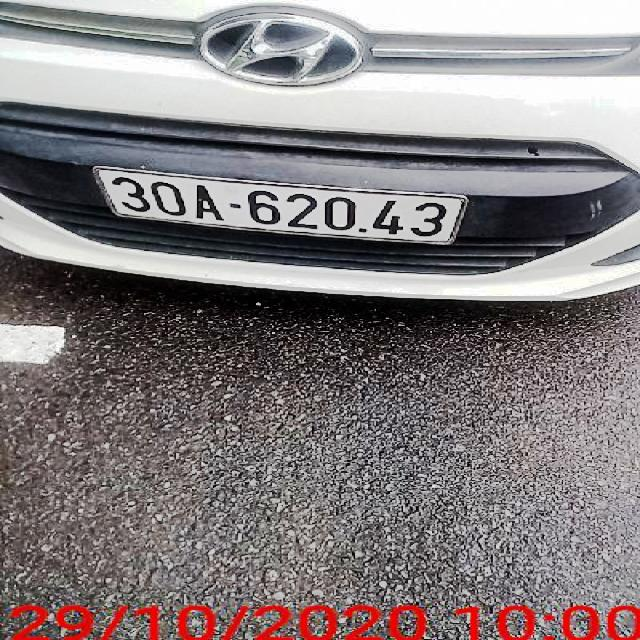license_plate: (97, 167, 468, 244)
